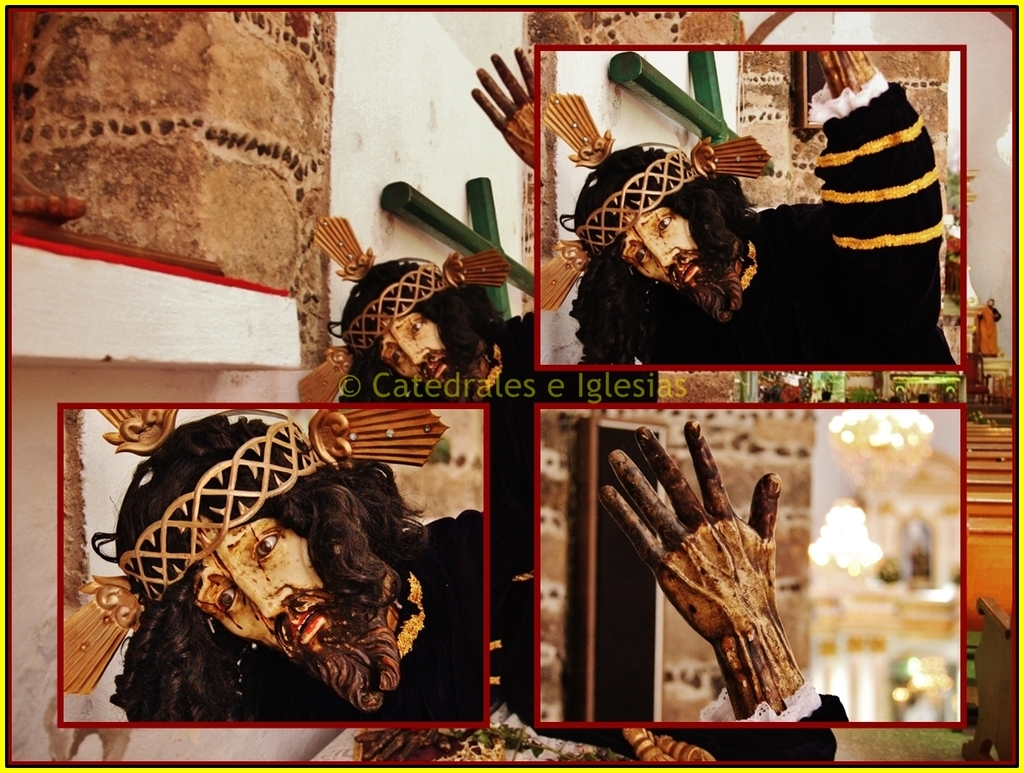Human_hand: (599, 430, 816, 723), (468, 43, 544, 174)
